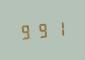nine: (35, 20, 50, 39), (18, 22, 33, 40)
one: (51, 19, 66, 37)
